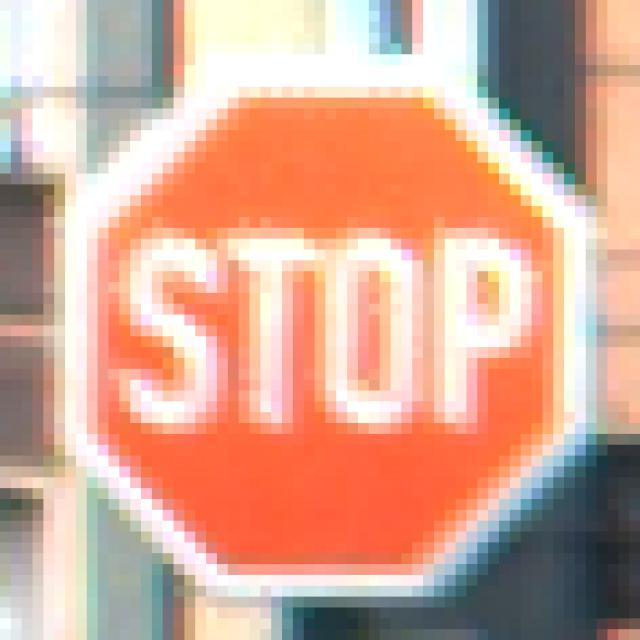STOP: (66, 55, 587, 587)
